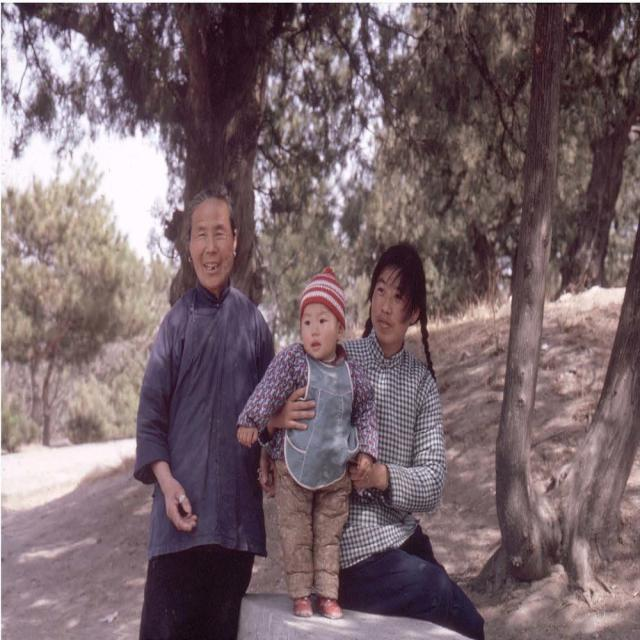body: (259, 231, 494, 639), (133, 180, 279, 640), (230, 257, 382, 626)
